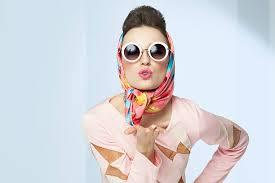scarf-kerchief: (114, 27, 181, 115)
sunglasses: (120, 41, 171, 64)
